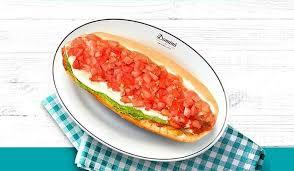Completos: (63, 29, 223, 148)
